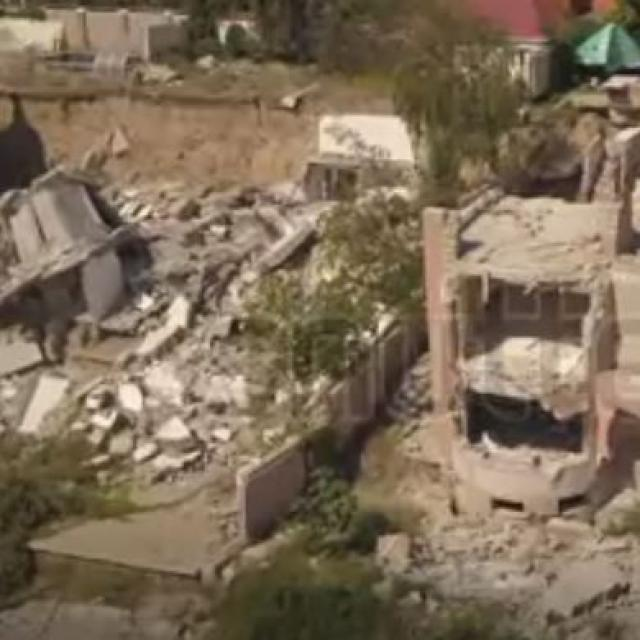collapsed_building: (51, 174, 407, 520), (427, 204, 638, 528)
